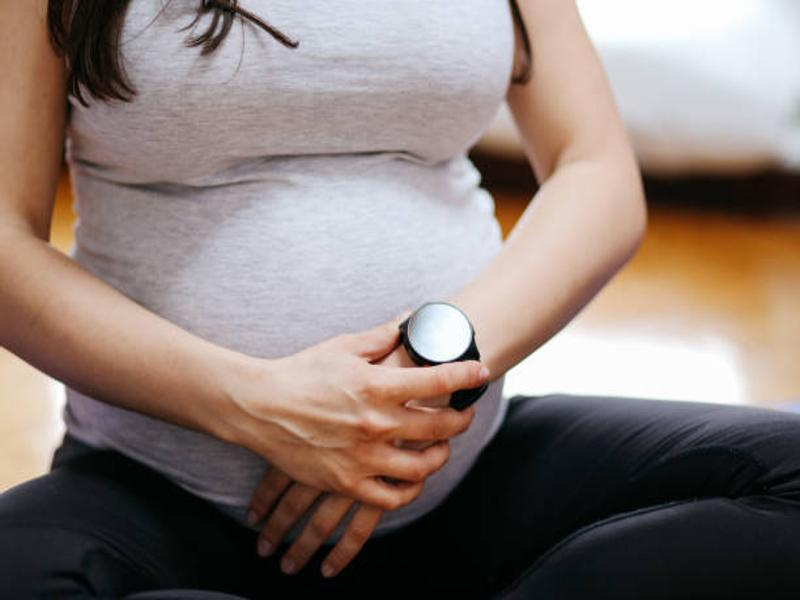watch: (398, 302, 490, 414)
